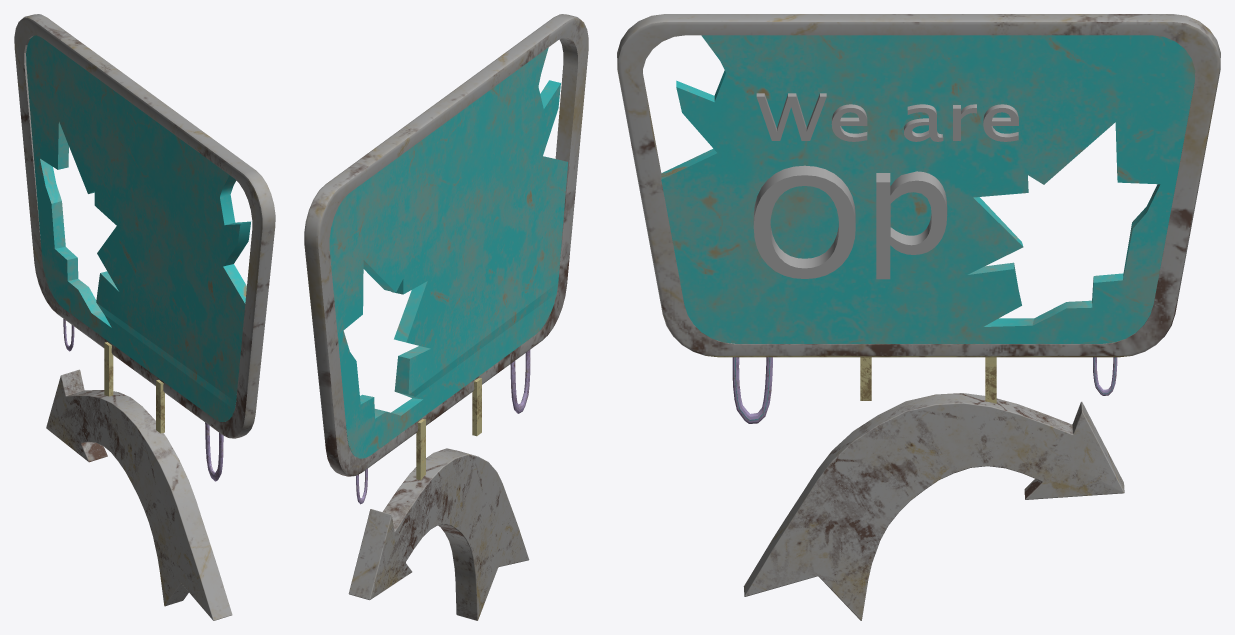
The model's file is op_sign.fbx.
3 views of the same model, side by side, from view 1: azimuth 30°, elevation 25°; view 2: azimuth 150°, elevation 25°; view 3: azimuth 270°, elevation 25° (orthographic). The views are drawn at different scales.
Visible parts, largest first — view 1: pasted__polySurface169, pasted__polySurface168, pasted__pasted__pCylinder3, pasted__pCylinder30, pasted__pCube6, pasted__pCube7; view 2: pasted__polySurface169, pasted__polySurface168, pasted__pasted__pCylinder3, pasted__pCylinder30, pasted__pCube6, pasted__pCube7; view 3: pasted__polySurface169, pasted__polySurface168, pasted__pasted__pCylinder3, pasted__polySurface220, pasted__polySurface221, pasted__polySurface215, pasted__pCylinder30, pasted__polySurface216, pasted__polySurface219, pasted__polySurface217.
Part boxes in pixels (left/top/right/bottom): pasted__polySurface169: left=26, top=35, right=250, bottom=421; pasted__polySurface168: left=14, top=14, right=275, bottom=438; pasted__pasted__pCylinder3: left=46, top=369, right=232, bottom=620; pasted__pCylinder30: left=205, top=422, right=223, bottom=481; pasted__pCube6: left=104, top=342, right=113, bottom=396; pasted__pCube7: left=156, top=380, right=164, bottom=433; pasted__polySurface169: left=329, top=47, right=567, bottom=458; pasted__polySurface168: left=304, top=14, right=588, bottom=476; pasted__pasted__pCylinder3: left=348, top=448, right=529, bottom=620; pasted__pCylinder30: left=510, top=350, right=530, bottom=413; pasted__pCube6: left=416, top=419, right=425, bottom=480; pasted__pCube7: left=472, top=377, right=481, bottom=436; pasted__polySurface169: left=661, top=35, right=1195, bottom=343; pasted__polySurface168: left=617, top=14, right=1220, bottom=357; pasted__pasted__pCylinder3: left=743, top=393, right=1124, bottom=620; pasted__polySurface220: left=753, top=165, right=855, bottom=278; pasted__polySurface221: left=876, top=171, right=947, bottom=279; pasted__polySurface215: left=756, top=93, right=826, bottom=140; pasted__pCylinder30: left=732, top=357, right=772, bottom=423; pasted__polySurface216: left=831, top=104, right=867, bottom=141; pasted__polySurface219: left=983, top=104, right=1018, bottom=141; pasted__polySurface217: left=904, top=104, right=943, bottom=141.
Bounding box in the file's own units: 0.1712 × 2.09 × 1.91.
